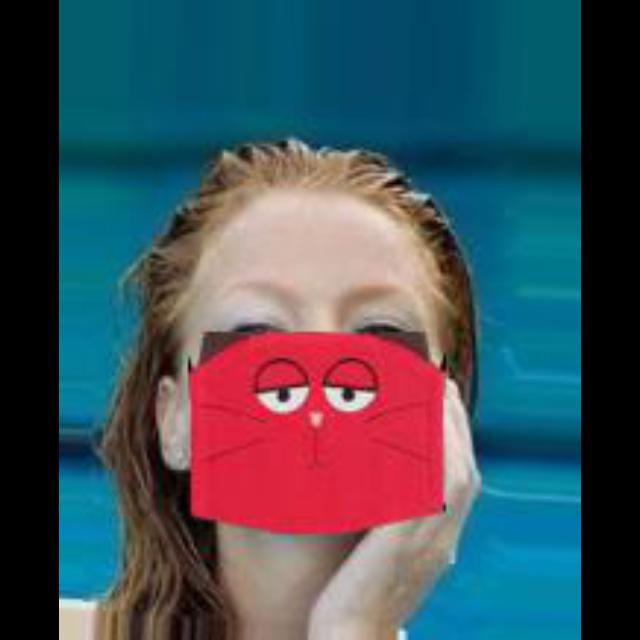suspicion: (134, 149, 488, 583)
